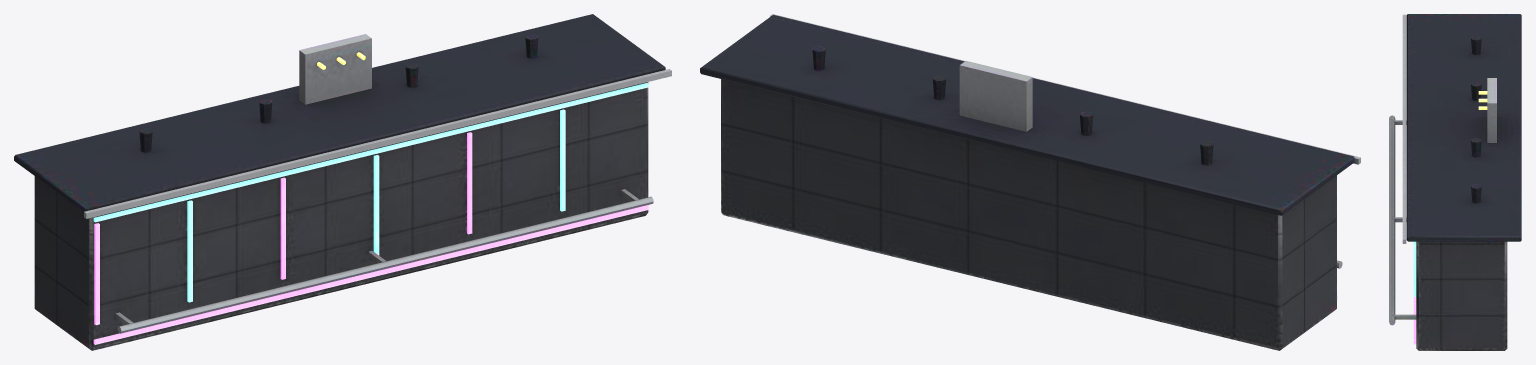
File: balcao_neon.glb
3 views of the same model, side by side, from view 1: azimuth 30°, elevation 25°; view 2: azimuth 150°, elevation 25°; view 3: azimuth 270°, elevation 25° (orthographic). The views are drawn at different scales.
Parts seen in each view (by area): view 1: balcao_neon; view 2: balcao_neon; view 3: balcao_neon.
Boxes of the visible parts, left/top/right/bottom form: balcao_neon: left=14, top=14, right=671, bottom=350; balcao_neon: left=700, top=14, right=1360, bottom=350; balcao_neon: left=1389, top=14, right=1521, bottom=350.
Size of the model in its own units: 4.4 by 1.45 by 1.1.
1 material, 1 textured.
